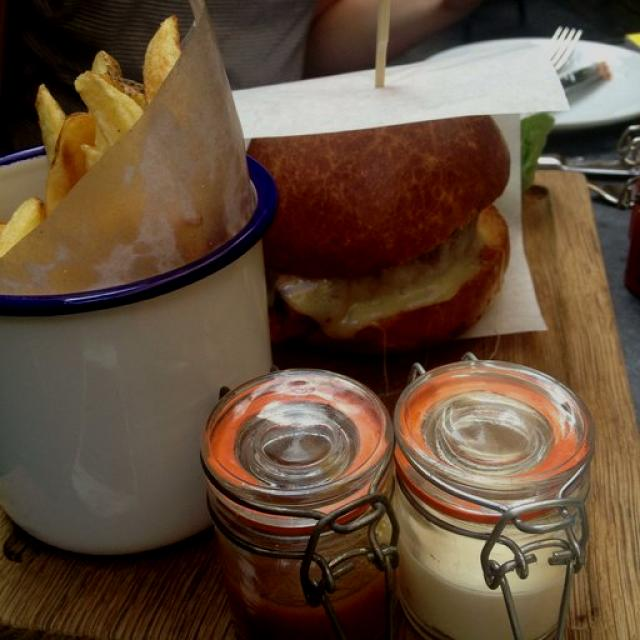burger: (270, 144, 510, 352)
